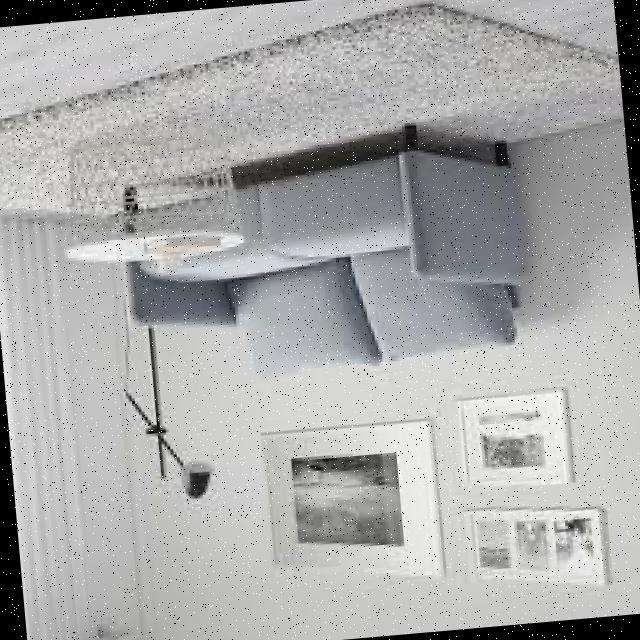Sofa: (86, 110, 554, 407)
